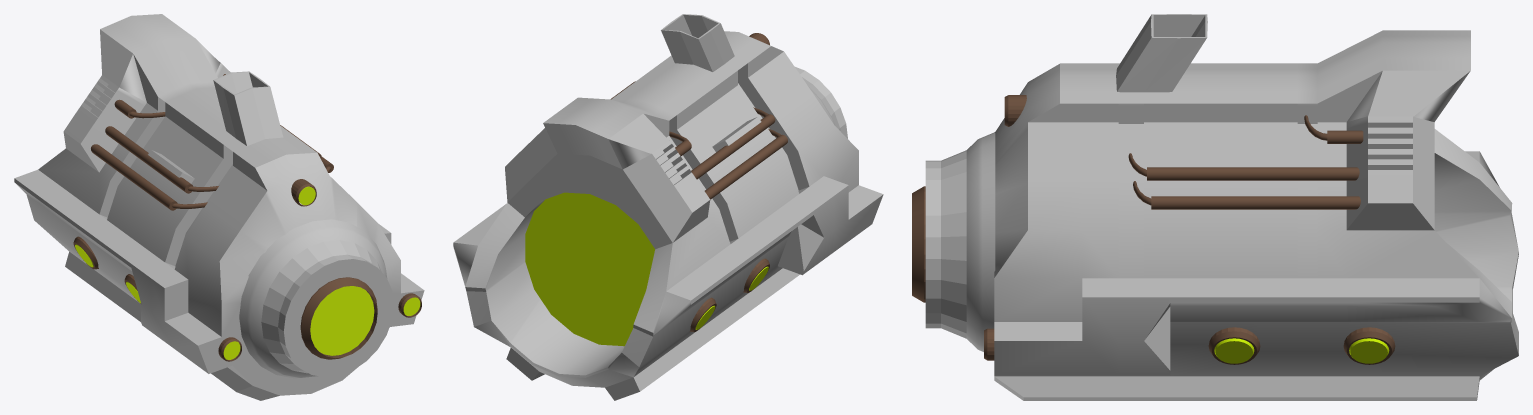
File: steampunktrainmodel_2.FBX
The picture shows the model from 3 angles, left to right: view 1: azimuth 30°, elevation 25°; view 2: azimuth 150°, elevation 25°; view 3: azimuth 270°, elevation 25°; orthographic projection. The views are drawn at different scales.
Parts seen in each view (by area): view 1: Cone001; view 2: Cone001; view 3: Cone001.
Boxes of the visible parts, bbox=[...] form: Cone001: bbox=[14, 14, 424, 400]; Cone001: bbox=[453, 14, 883, 400]; Cone001: bbox=[912, 14, 1518, 400].
Bounding box in the file's own units: 74.91 × 84.6 × 131.
